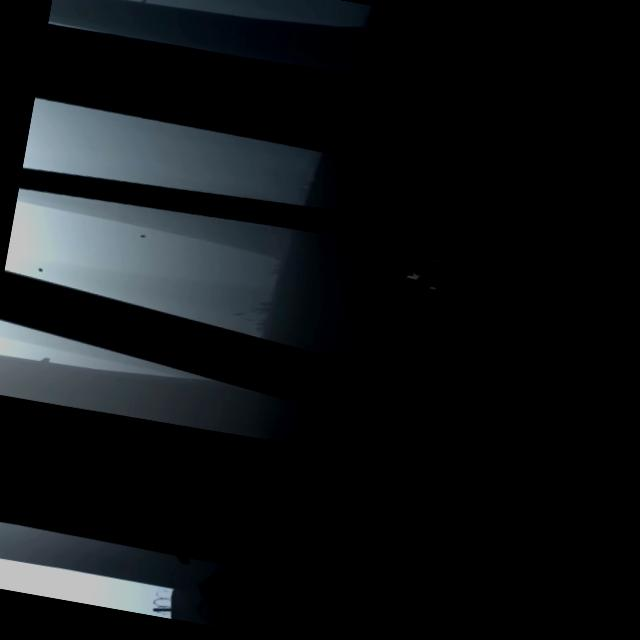boy: (398, 244, 500, 300)
